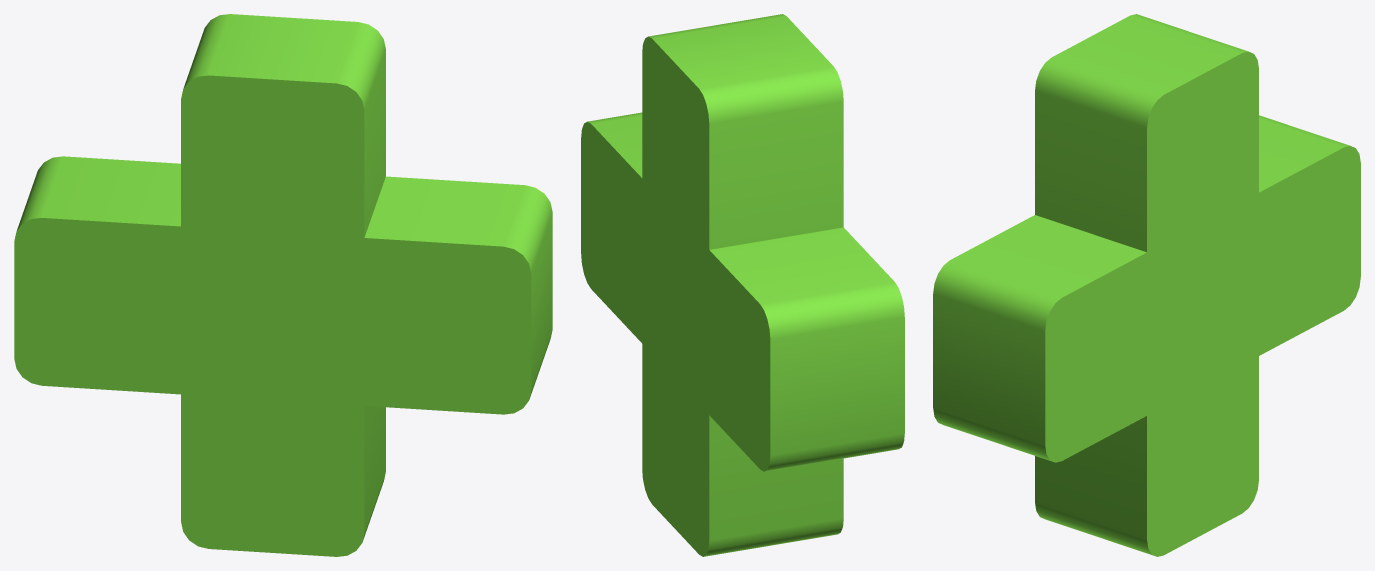
The model's file is healthpickup.fbx.
The picture shows the model from 3 angles, left to right: view 1: azimuth 30°, elevation 25°; view 2: azimuth 150°, elevation 25°; view 3: azimuth 270°, elevation 25°; orthographic projection. The views are drawn at different scales.
Visible parts, largest first — view 1: Cube.001; view 2: Cube.001; view 3: Cube.001.
Boxes of the visible parts, left/top/right/bottom form: Cube.001: left=14, top=14, right=552, bottom=556; Cube.001: left=581, top=14, right=904, bottom=556; Cube.001: left=933, top=14, right=1360, bottom=556.
Size of the model in its own units: 64.58 by 67.37 by 56.71.
